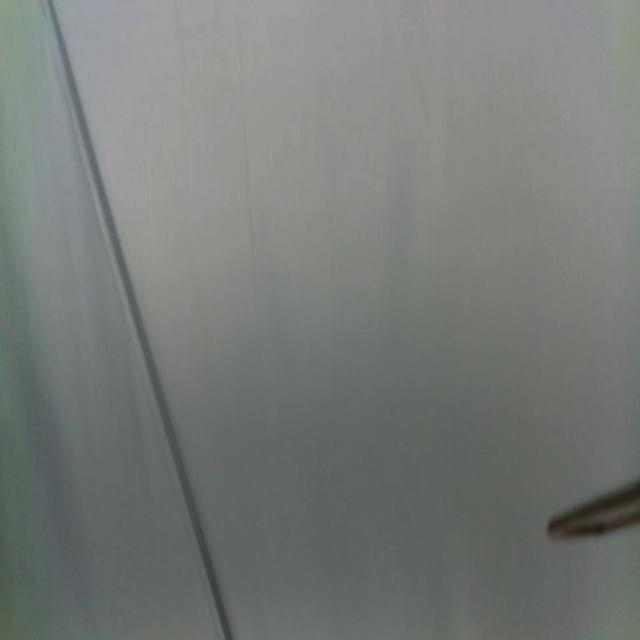crease: (48, 0, 234, 640)
